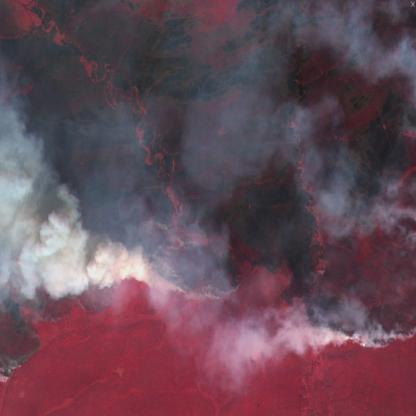fire: (0, 218, 250, 380), (300, 260, 416, 358)
